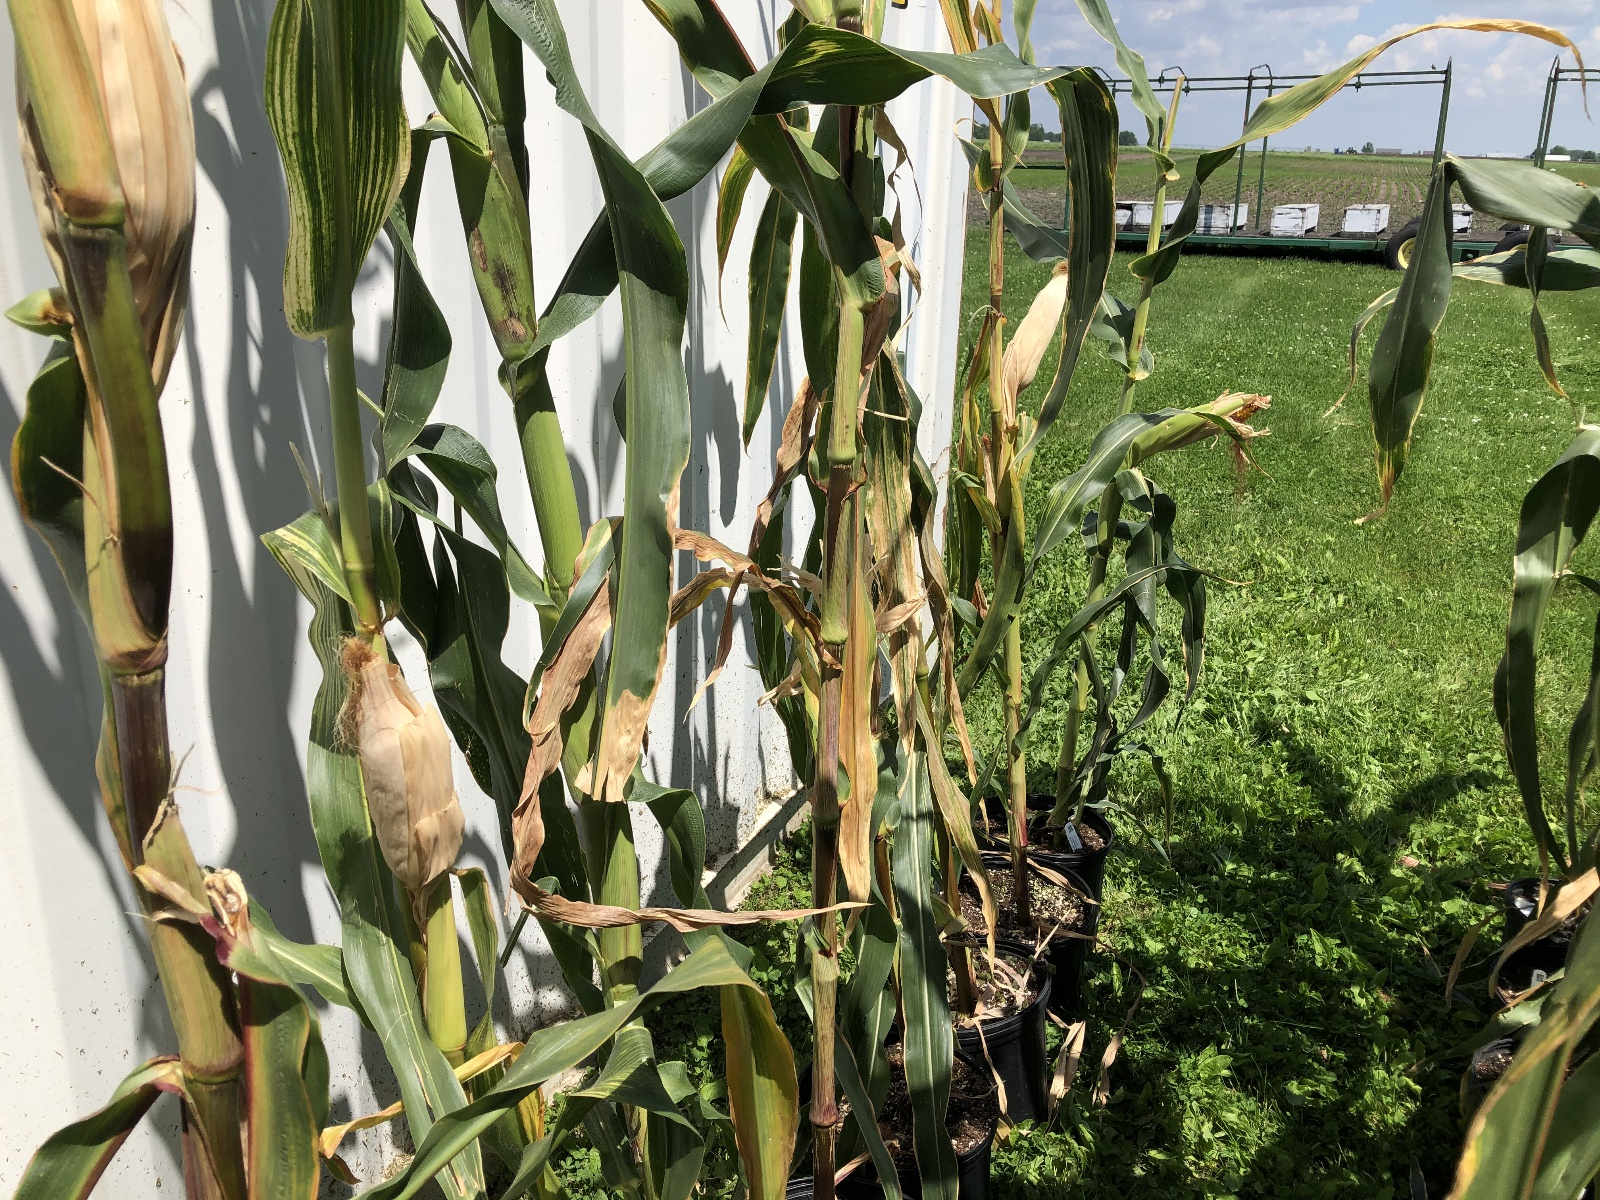ear: (37, 9, 198, 247), (338, 626, 450, 887), (1126, 384, 1276, 456), (999, 258, 1071, 387)
